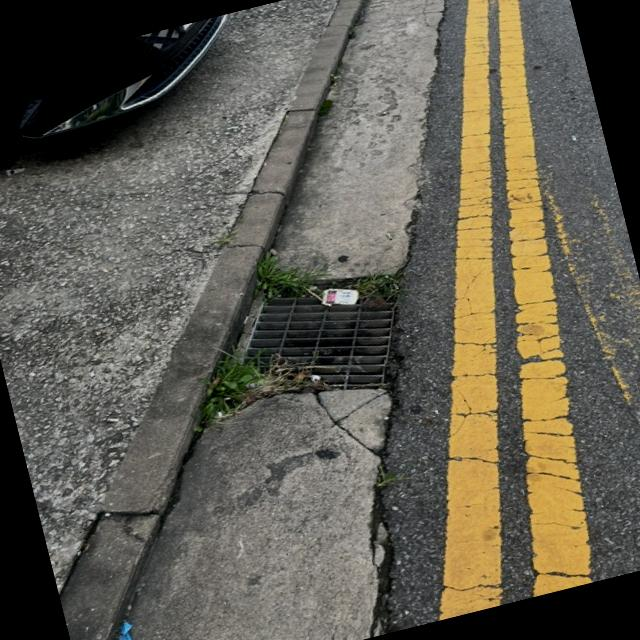drain_area: (240, 298, 393, 392)
drain_full: (230, 276, 397, 394)
